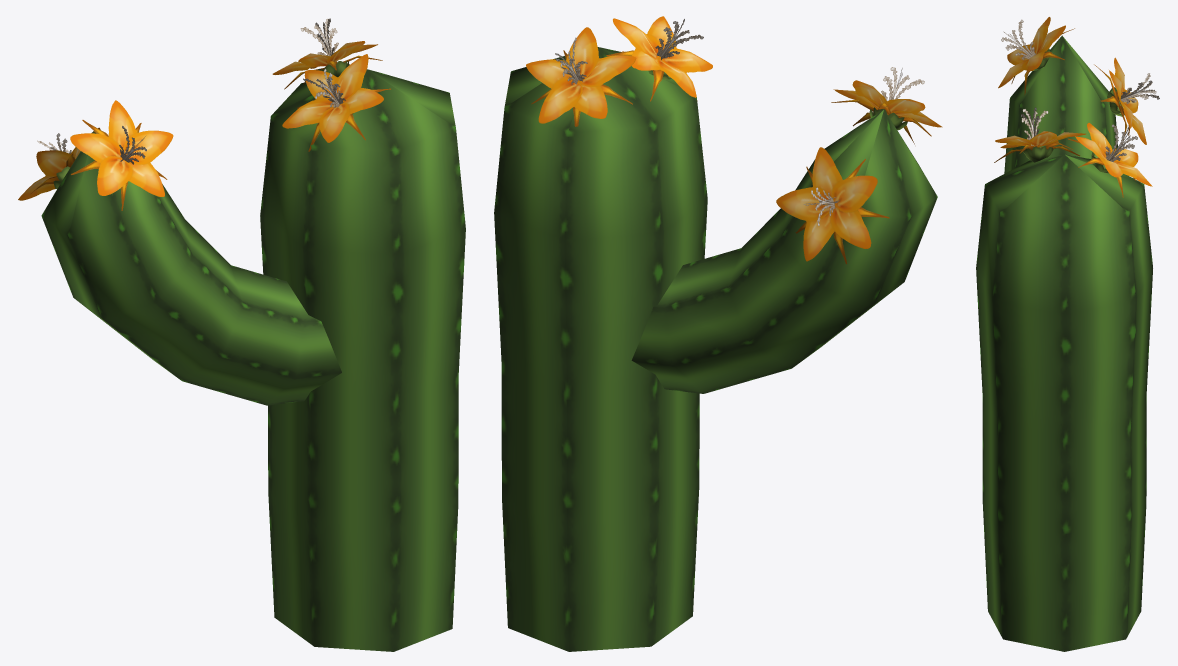
The model's file is Ctn_cactus_01_v04_flowers.FBX.
The picture shows the model from 3 angles, left to right: view 1: azimuth 30°, elevation 25°; view 2: azimuth 150°, elevation 25°; view 3: azimuth 270°, elevation 25°; orthographic projection. The views are drawn at different scales.
Parts seen in each view (by area): view 1: Ctn_cactus_01_v04_flowers; view 2: Ctn_cactus_01_v04_flowers; view 3: Ctn_cactus_01_v04_flowers.
Part boxes in pixels (x1,y1,x2,y2): Ctn_cactus_01_v04_flowers: (18,18,465,651); Ctn_cactus_01_v04_flowers: (494,16,942,651); Ctn_cactus_01_v04_flowers: (976,17,1159,651).
Bounding box in the file's own units: 46.64 × 63.89 × 22.
